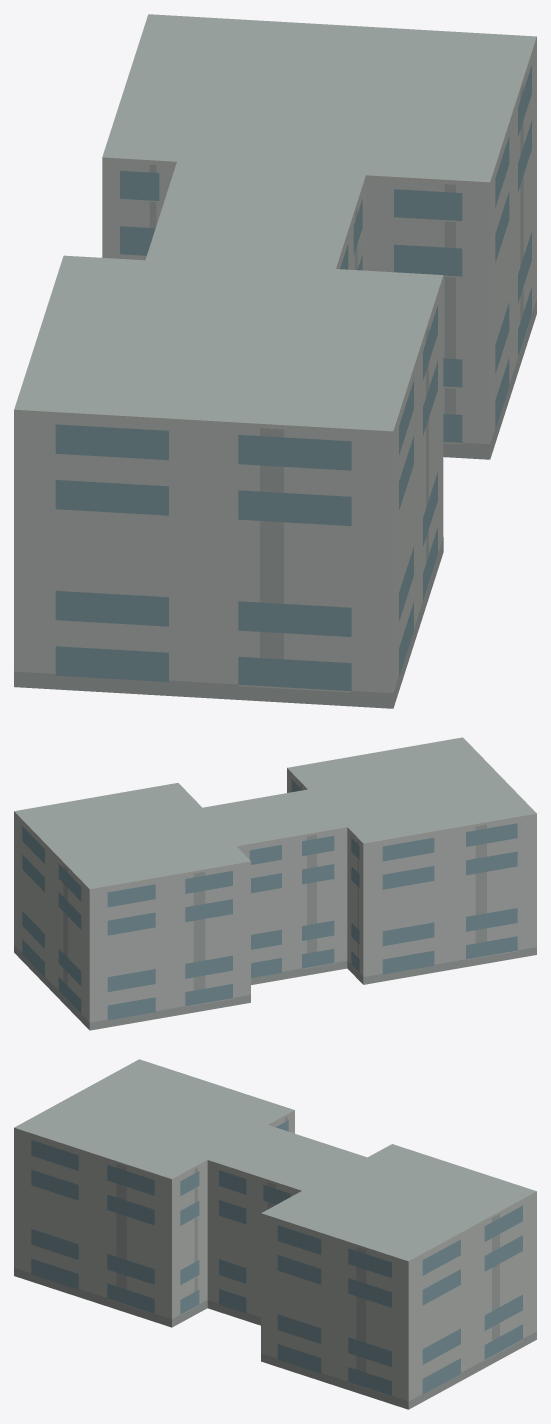
File: residential-1dd35144-4659-4bae-892f-497f8f9f9e2d.glb
3 views of the same model, one above another, from view 1: azimuth 30°, elevation 25°; view 2: azimuth 150°, elevation 25°; view 3: azimuth 270°, elevation 25° (orthographic). The views are drawn at different scales.
Parts seen in each view (by area): view 1: residential-1dd35144-4659-4bae-892f-497f8f9f9e2d.tmp; view 2: residential-1dd35144-4659-4bae-892f-497f8f9f9e2d.tmp; view 3: residential-1dd35144-4659-4bae-892f-497f8f9f9e2d.tmp.
Boxes of the visible parts, x1,y1,x2,y2 form: residential-1dd35144-4659-4bae-892f-497f8f9f9e2d.tmp: (14, 14, 536, 708); residential-1dd35144-4659-4bae-892f-497f8f9f9e2d.tmp: (14, 737, 536, 1030); residential-1dd35144-4659-4bae-892f-497f8f9f9e2d.tmp: (14, 1059, 536, 1409).
Bounding box in the file's own units: 44.58 × 15.25 × 48.72.
